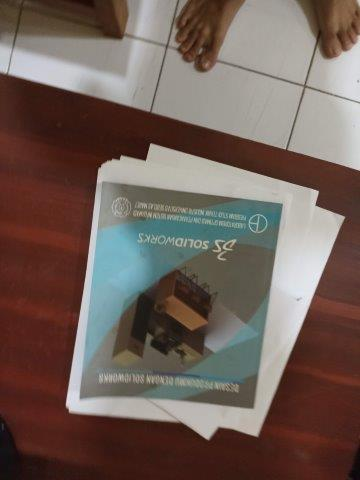kertas: (64, 143, 345, 441)
